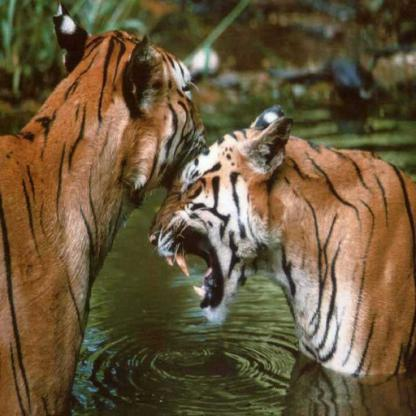Tiger: (0, 26, 210, 415), (142, 102, 415, 385)
